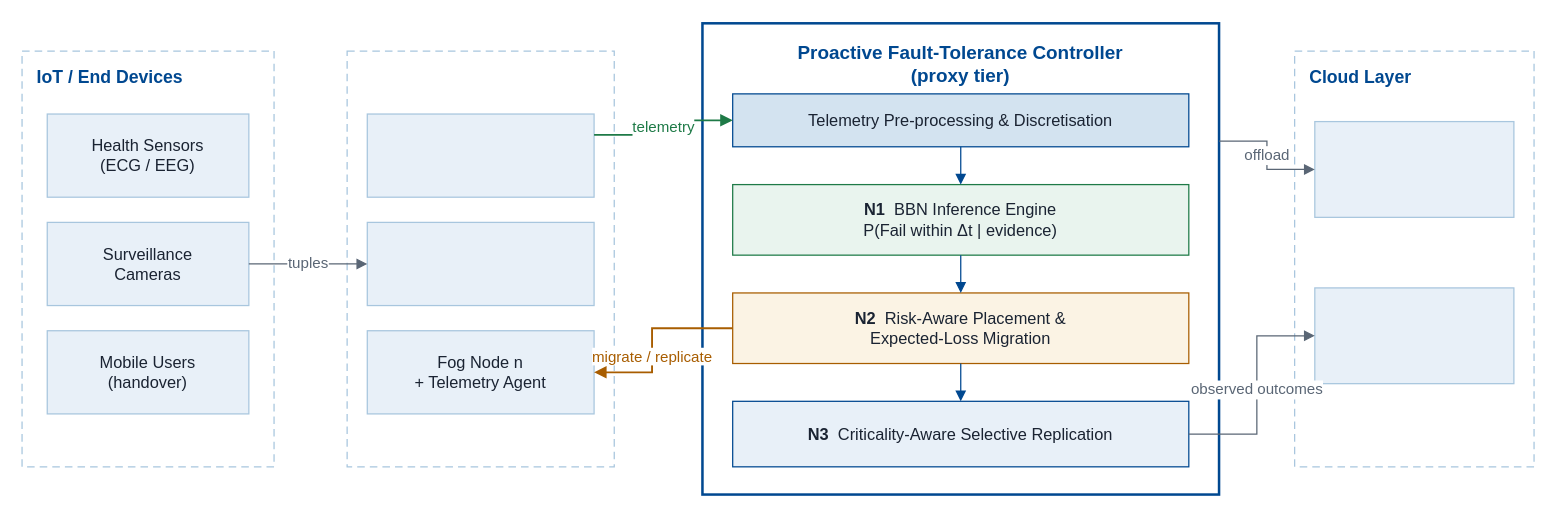
Some shapes in this 1556 by 517 pixel diagram are drawn without their labels. Here are the shapes that lost their labels. From the top down, the box of each, then its label:
(366, 113, 594, 197): Fog Node 1 + Telemetry Agent
(1314, 120, 1514, 217): Cloud Data Centre (offload, archival)
(346, 50, 614, 467): Fog Layer
(366, 221, 594, 306): Fog Node 2 + Telemetry Agent
(1314, 287, 1514, 384): Model & CPT Repository
